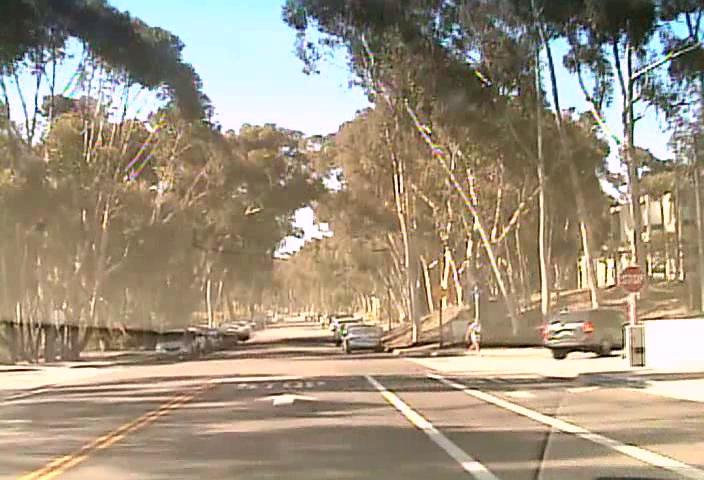stop: (618, 265, 645, 292)
